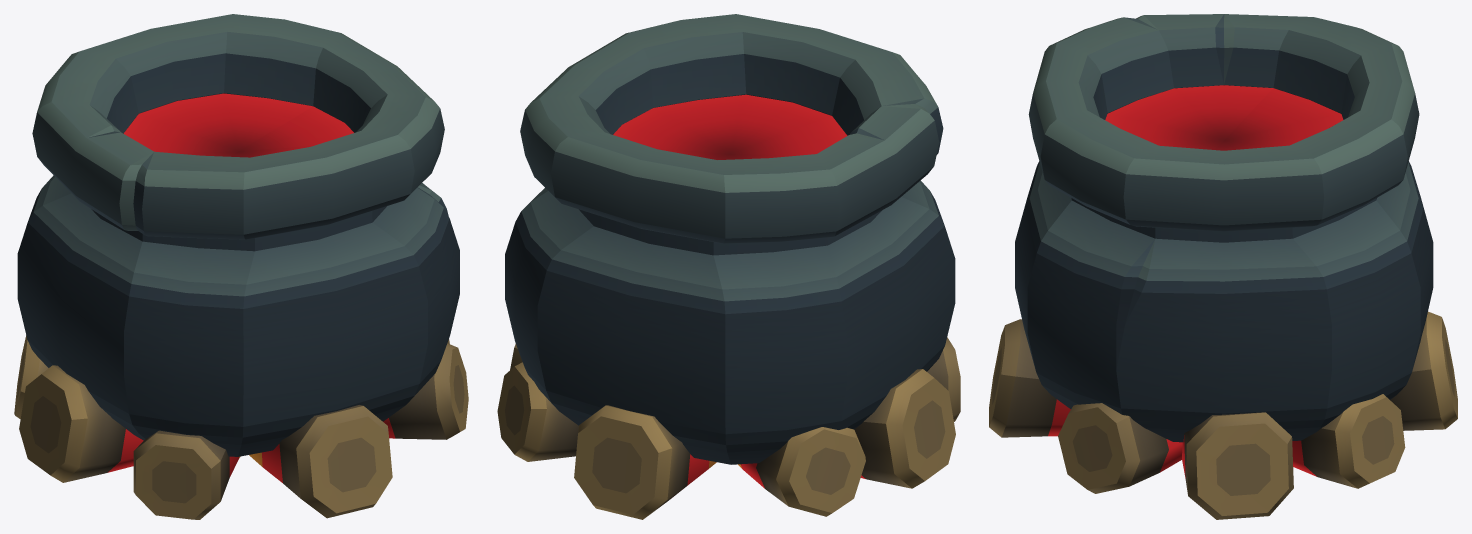
Rendered from stove2.fbx.
3 views of the same model, side by side, from view 1: azimuth 30°, elevation 25°; view 2: azimuth 150°, elevation 25°; view 3: azimuth 270°, elevation 25° (orthographic).
Visible parts, largest first — view 1: stove2; view 2: stove2; view 3: stove2.
Boxes of the visible parts, <box> form: stove2: <box>14,14,468,519</box>; stove2: <box>497,14,960,519</box>; stove2: <box>989,14,1457,519</box>.
Size of the model in its own units: 140 by 113 by 140.
Materials: 1 (1 with a texture image).
